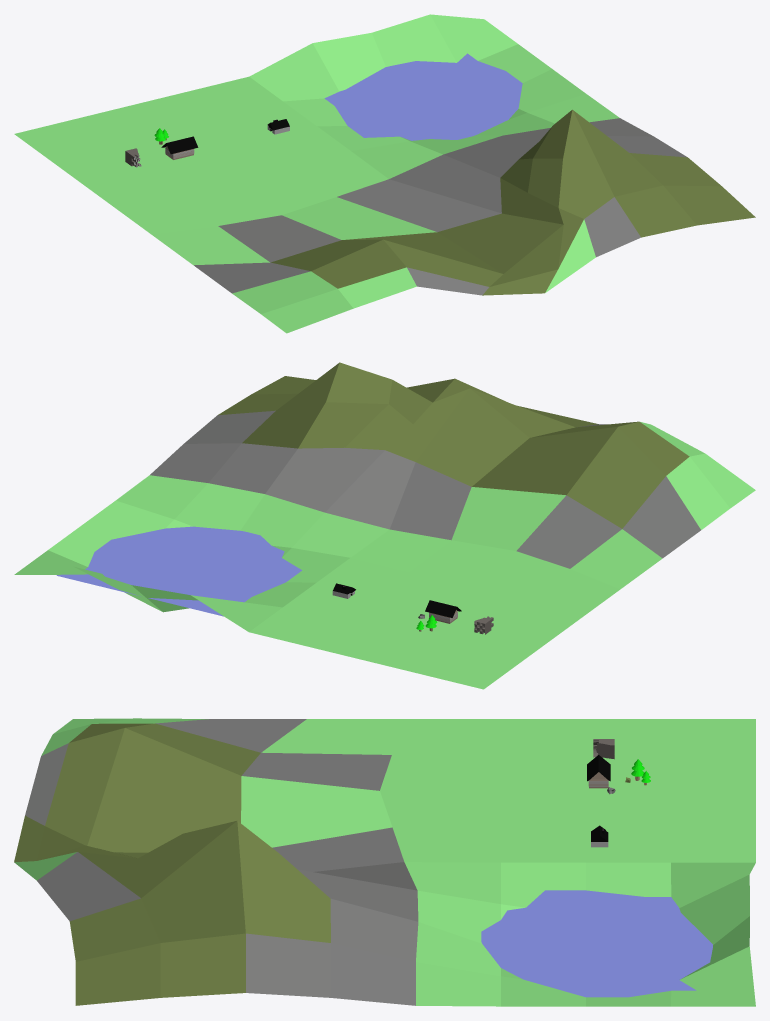
File: importGame.glb
3 views of the same model, one above another, from view 1: azimuth 30°, elevation 25°; view 2: azimuth 150°, elevation 25°; view 3: azimuth 270°, elevation 25° (orthographic). The views are drawn at different scales.
Parts seen in each view (by area): view 1: Plane, Plane.001, chalupa; view 2: Plane, Plane.001, chalupa; view 3: Plane, Plane.001, chalupa.
Part boxes in pixels (x1,y1,x2,y2): Plane: [14, 14, 755, 333]; Plane.001: [324, 53, 522, 140]; chalupa: [161, 136, 198, 159]; Plane: [14, 362, 755, 689]; Plane.001: [56, 526, 301, 616]; chalupa: [425, 600, 461, 623]; Plane: [14, 718, 755, 1006]; Plane.001: [481, 890, 712, 997]; chalupa: [587, 755, 610, 788].
Bounding box in the file's own units: 206 × 55 × 225.
